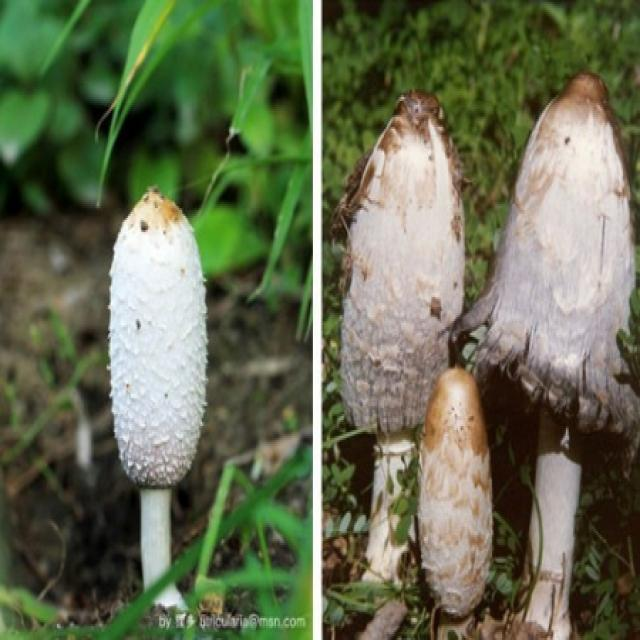Coprinus comatus: (461, 69, 640, 636), (340, 95, 463, 619), (110, 189, 206, 613), (420, 371, 494, 615)
